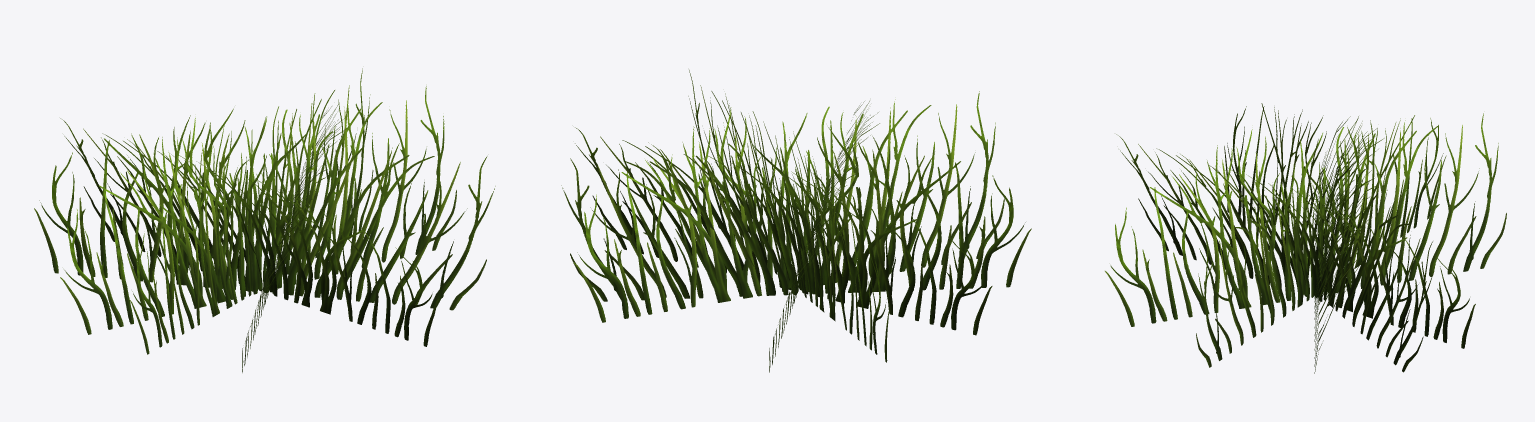
The model's file is PlantGrass.obj.
3 renders of one model, left to right at view 1: azimuth 30°, elevation 25°; view 2: azimuth 150°, elevation 25°; view 3: azimuth 270°, elevation 25°, orthographic. The views are drawn at different scales.
Visible parts, largest first — view 1: Mesh; view 2: Mesh; view 3: Mesh.
Part boxes in pixels (x1,y1,x2,y2): Mesh: (34, 68, 495, 372); Mesh: (561, 70, 1031, 372); Mesh: (1105, 103, 1506, 373).
Size of the model in its own units: 1.63 by 0.9032 by 1.64.
